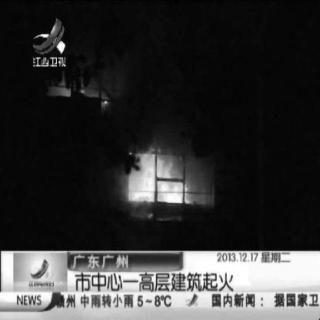Fire: (132, 159, 192, 205)
